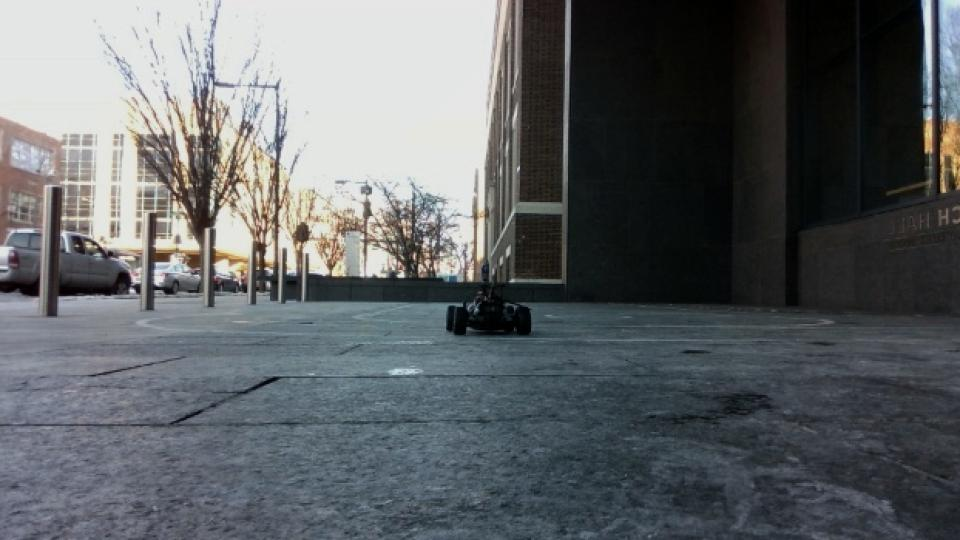car: (445, 280, 537, 340)
